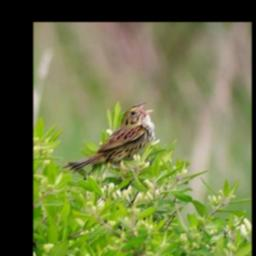Sparrow: (61, 101, 157, 179)
